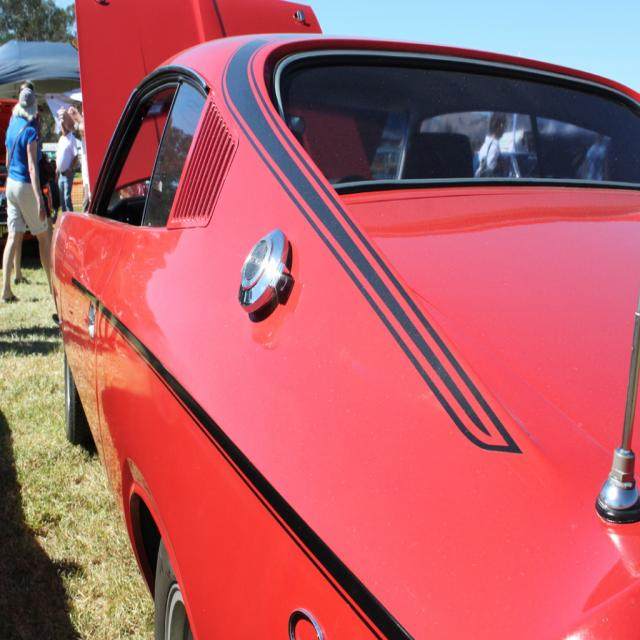other: (50, 0, 639, 639), (0, 97, 55, 245)
